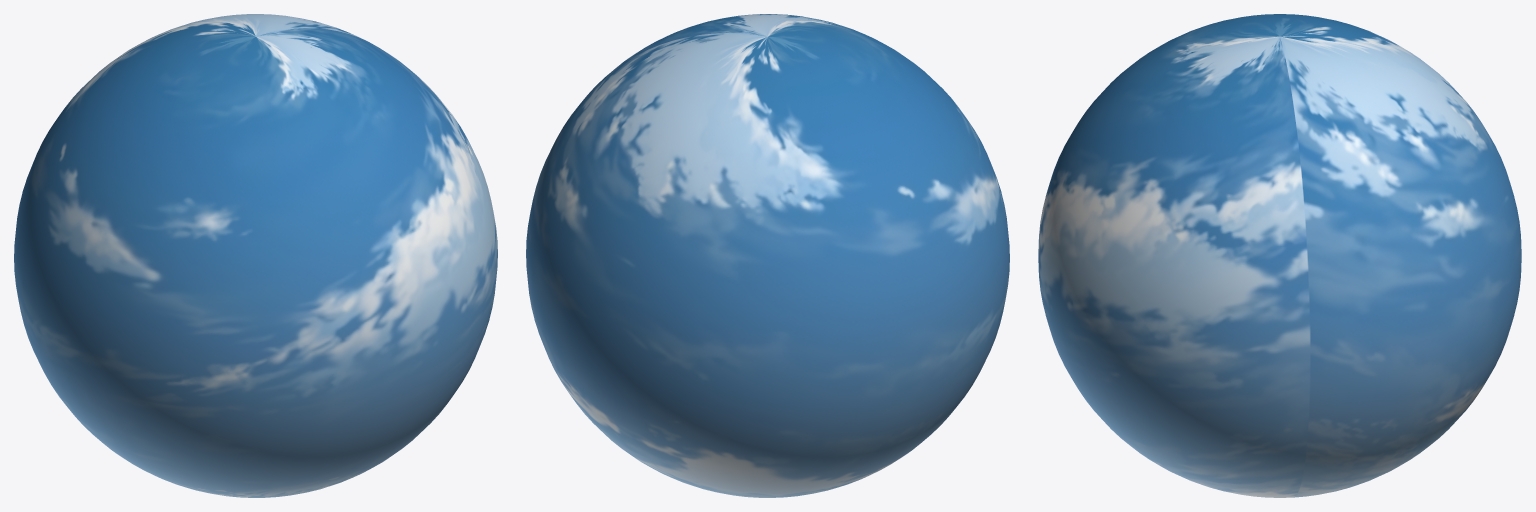
File: Sky.fbx
The picture shows the model from 3 angles, left to right: view 1: azimuth 30°, elevation 25°; view 2: azimuth 150°, elevation 25°; view 3: azimuth 270°, elevation 25°; orthographic projection.
Parts seen in each view (by area): view 1: pSphere1; view 2: pSphere1; view 3: pSphere1.
Part boxes in pixels (x1=…): pSphere1: x1=14, y1=14, x2=497, y2=497; pSphere1: x1=526, y1=14, x2=1009, y2=497; pSphere1: x1=1038, y1=14, x2=1521, y2=497.
Size of the model in its own units: 920 by 920 by 918.
Materials: 1 (1 with a texture image).
